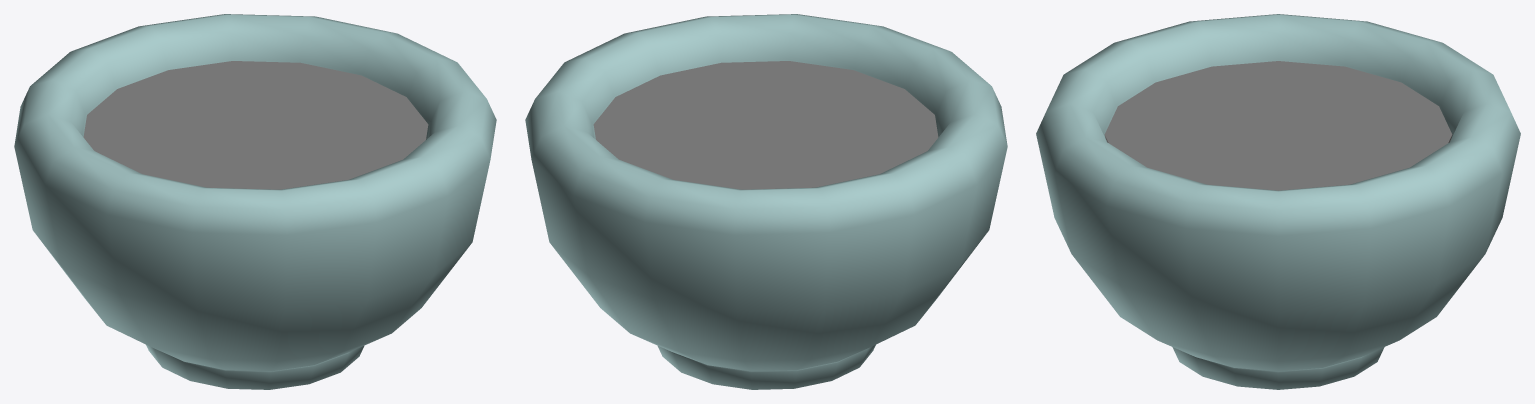
The model's file is LastLuna_Model_Station_Glass_Mortar.fbx.
The picture shows the model from 3 angles, left to right: view 1: azimuth 30°, elevation 25°; view 2: azimuth 150°, elevation 25°; view 3: azimuth 270°, elevation 25°; orthographic projection.
Visible parts, largest first — view 1: Mortar001, Mortar_Content001; view 2: Mortar001, Mortar_Content001; view 3: Mortar001, Mortar_Content001.
Part boxes in pixels (x1,y1,x2,y2): Mortar001: (14, 14, 496, 389); Mortar_Content001: (83, 61, 428, 189); Mortar001: (525, 14, 1007, 389); Mortar_Content001: (593, 61, 938, 189); Mortar001: (1036, 14, 1520, 389); Mortar_Content001: (1104, 61, 1452, 190).
Bounding box in the file's own units: 72.5 × 41.25 × 72.5.
